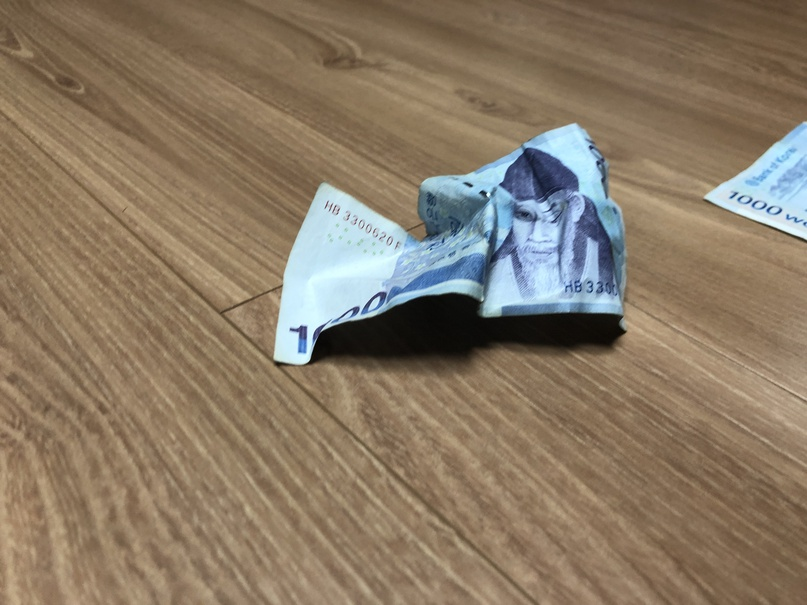1000won: (273, 123, 628, 366)
